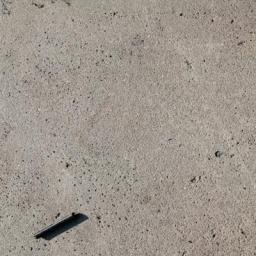FOD: (31, 212, 89, 242)
